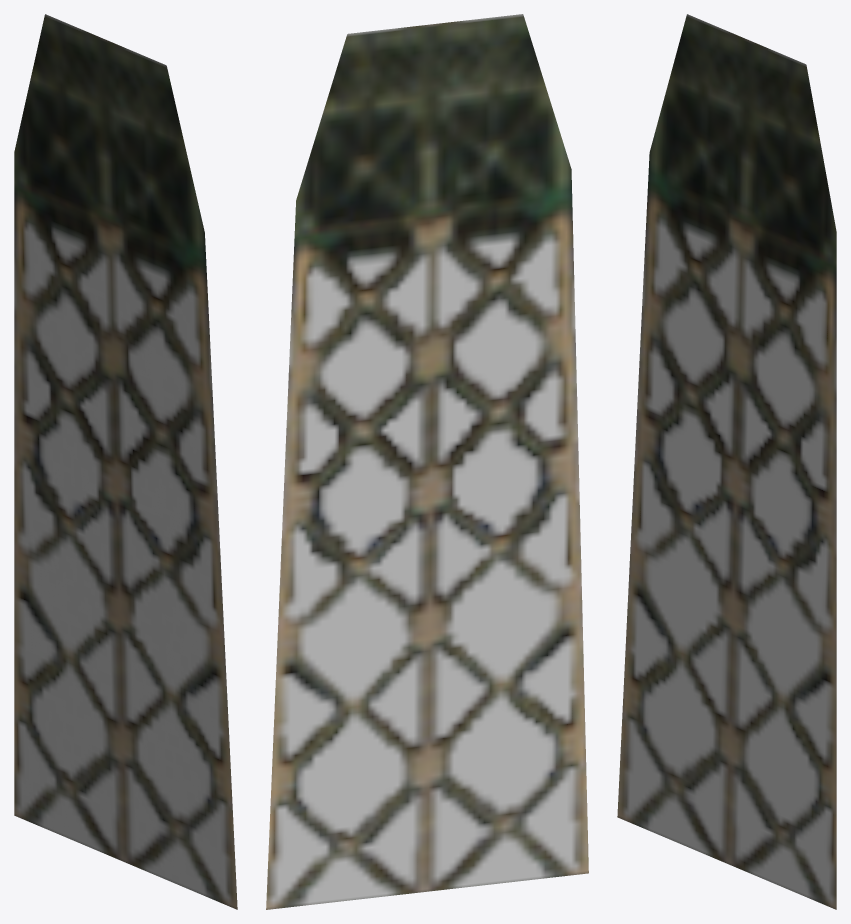
File: 埃菲尔铁塔55.dae
3 renders of one model, left to right at view 1: azimuth 90°, elevation 25°; view 2: azimuth 150°, elevation 25°; view 3: azimuth 270°, elevation 25°, orthographic. The views are drawn at different scales.
Visible parts, largest first — view 1: SketchUp; view 2: SketchUp; view 3: SketchUp.
Boxes of the visible parts, x1=… form: SketchUp: x1=14, y1=14, x2=237, y2=909; SketchUp: x1=266, y1=14, x2=588, y2=909; SketchUp: x1=617, y1=14, x2=836, y2=909.
Bounding box in the file's own units: 465 × 465 × 1909.
Materials: 1 (1 with a texture image).
